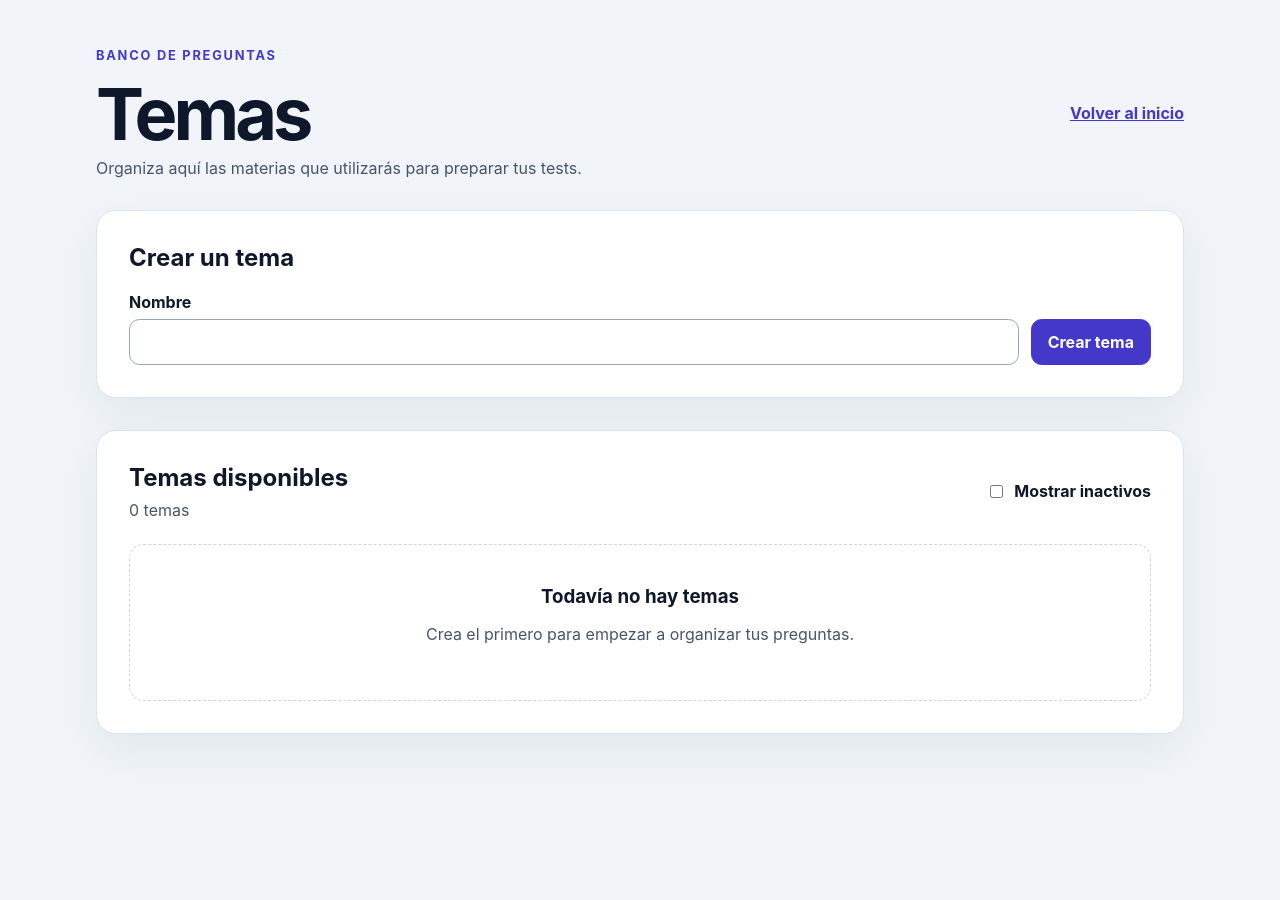
it: TopicsPage › creates a topic and refreshes the list without reloading
Expected: the heading "Todavía no hay temas" is shown, x1=541 y1=585 x2=739 y2=608
Type "Derecho constitucional" into the field labelled "Nombre". click: (574, 342)
box: x1=129 y1=319 x2=1019 y2=365
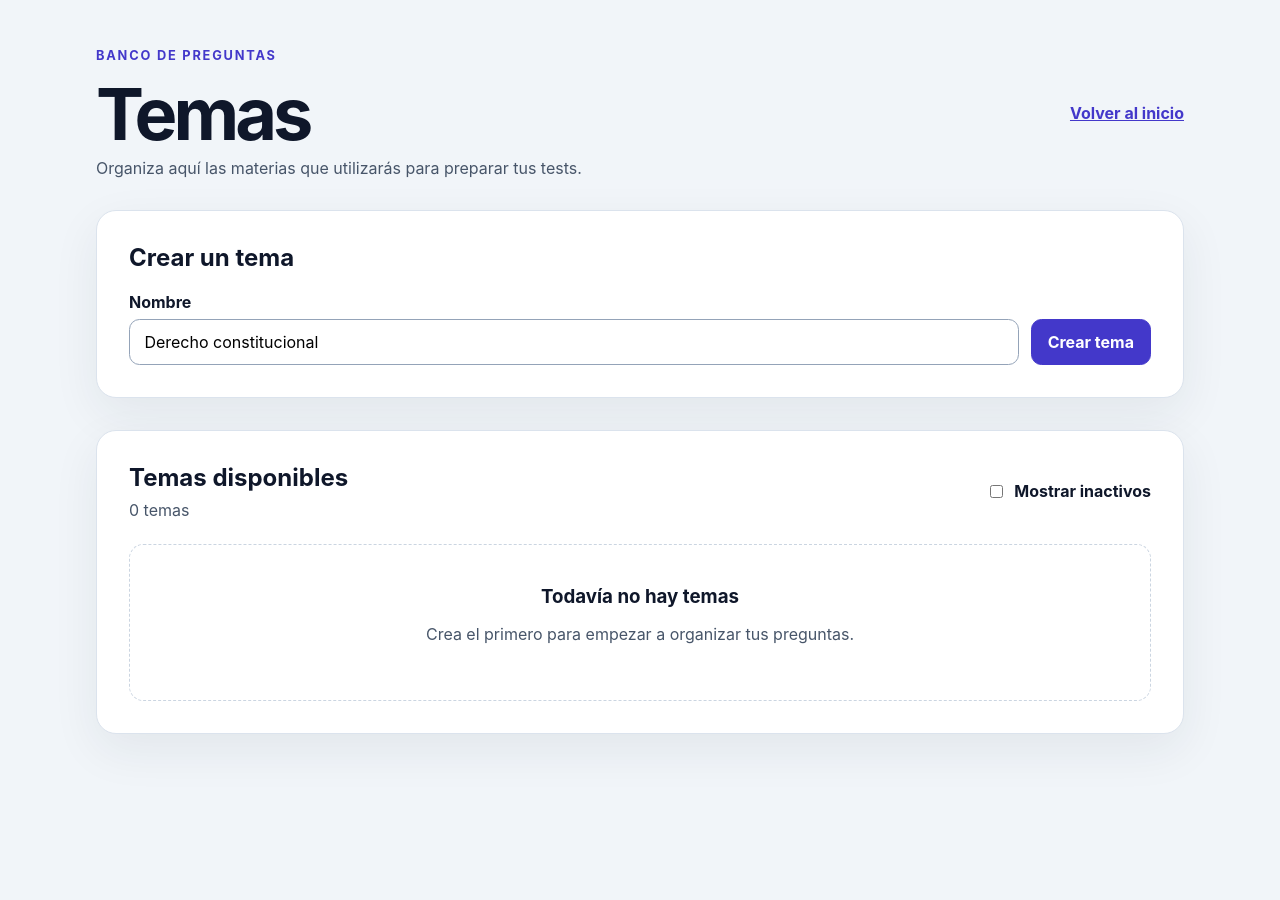
Submit the form "Crear tema", box x1=129 y1=292 x2=1151 y2=365
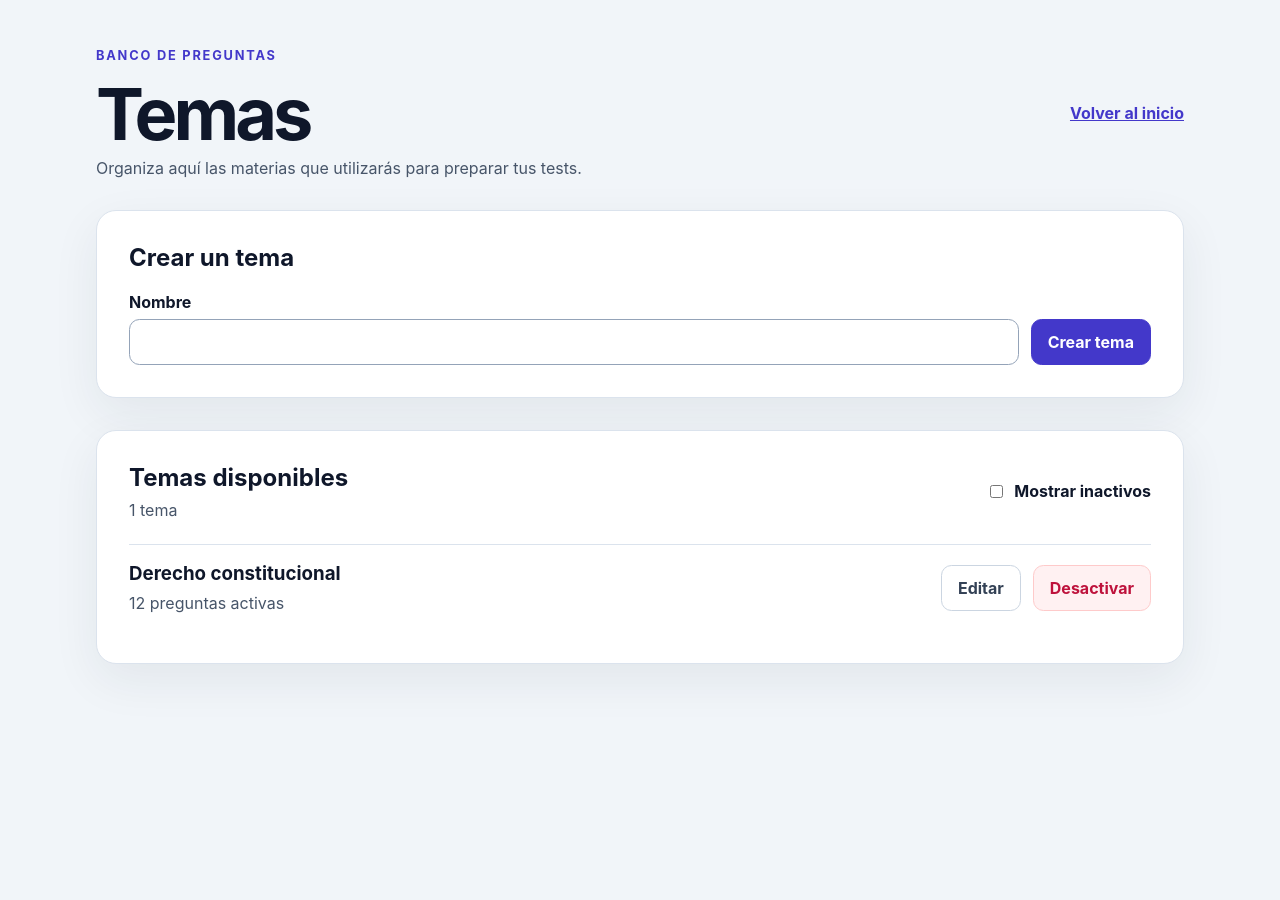
Now the heading "Derecho constitucional" is shown, box x1=129 y1=562 x2=341 y2=585
